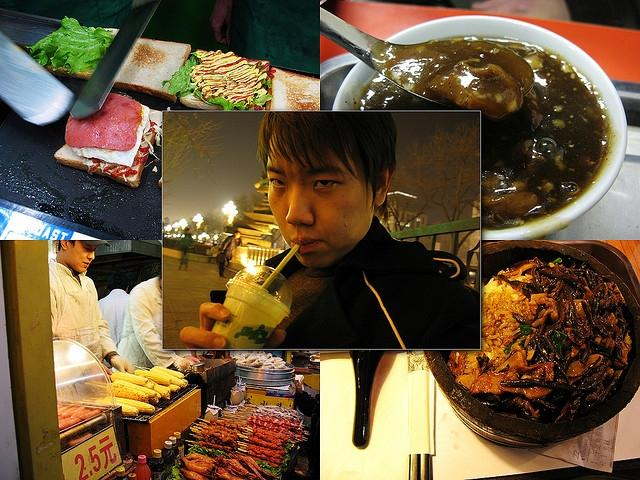corn: (104, 396, 155, 413), (139, 374, 171, 400), (94, 400, 138, 418), (114, 380, 156, 398), (150, 368, 187, 388), (112, 383, 150, 401), (134, 370, 172, 384), (110, 372, 148, 386), (154, 366, 184, 379), (158, 384, 181, 392), (142, 382, 156, 390), (149, 398, 159, 404), (181, 378, 188, 386)
lettuce: (40, 16, 116, 74), (162, 54, 200, 98), (504, 325, 532, 355), (184, 442, 230, 459), (167, 461, 183, 480), (260, 466, 280, 478), (268, 466, 282, 472)
